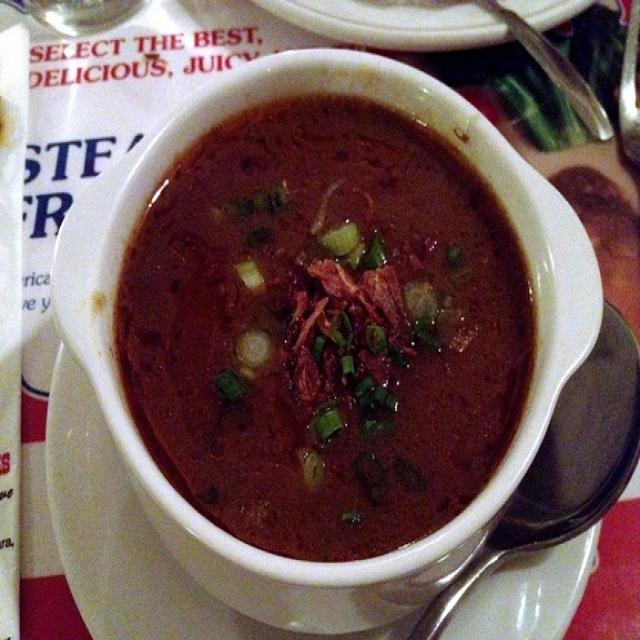汤锅炖物: (88, 51, 568, 586)
